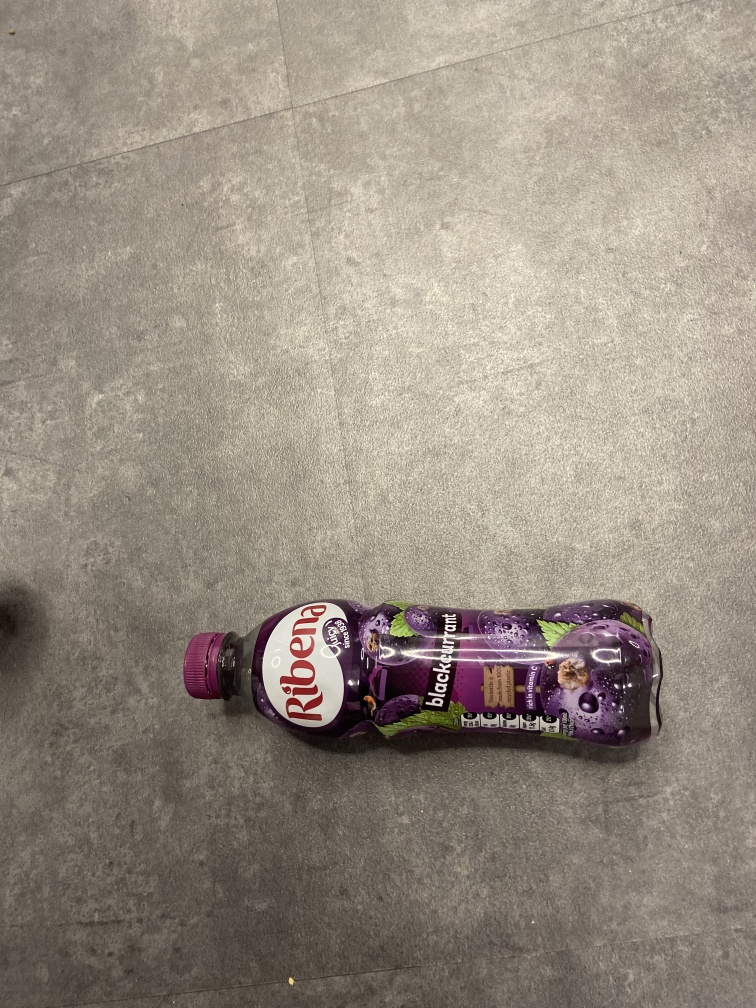bottle_purple: (182, 594, 670, 754)
